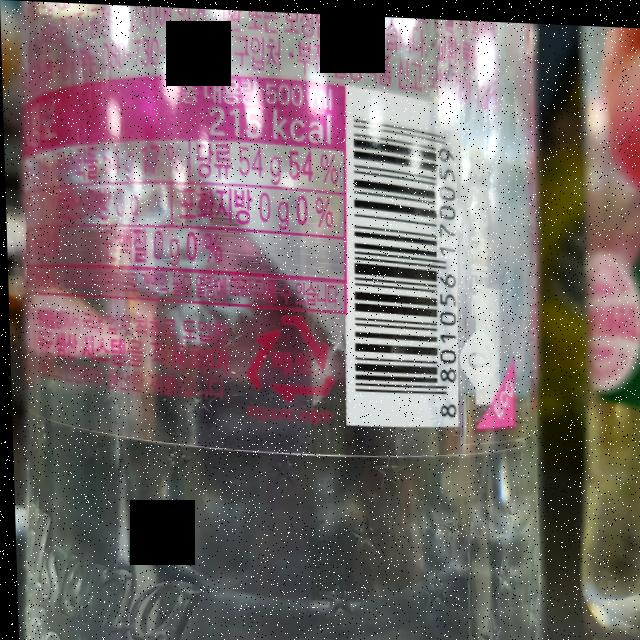PET: (243, 306, 335, 401)
